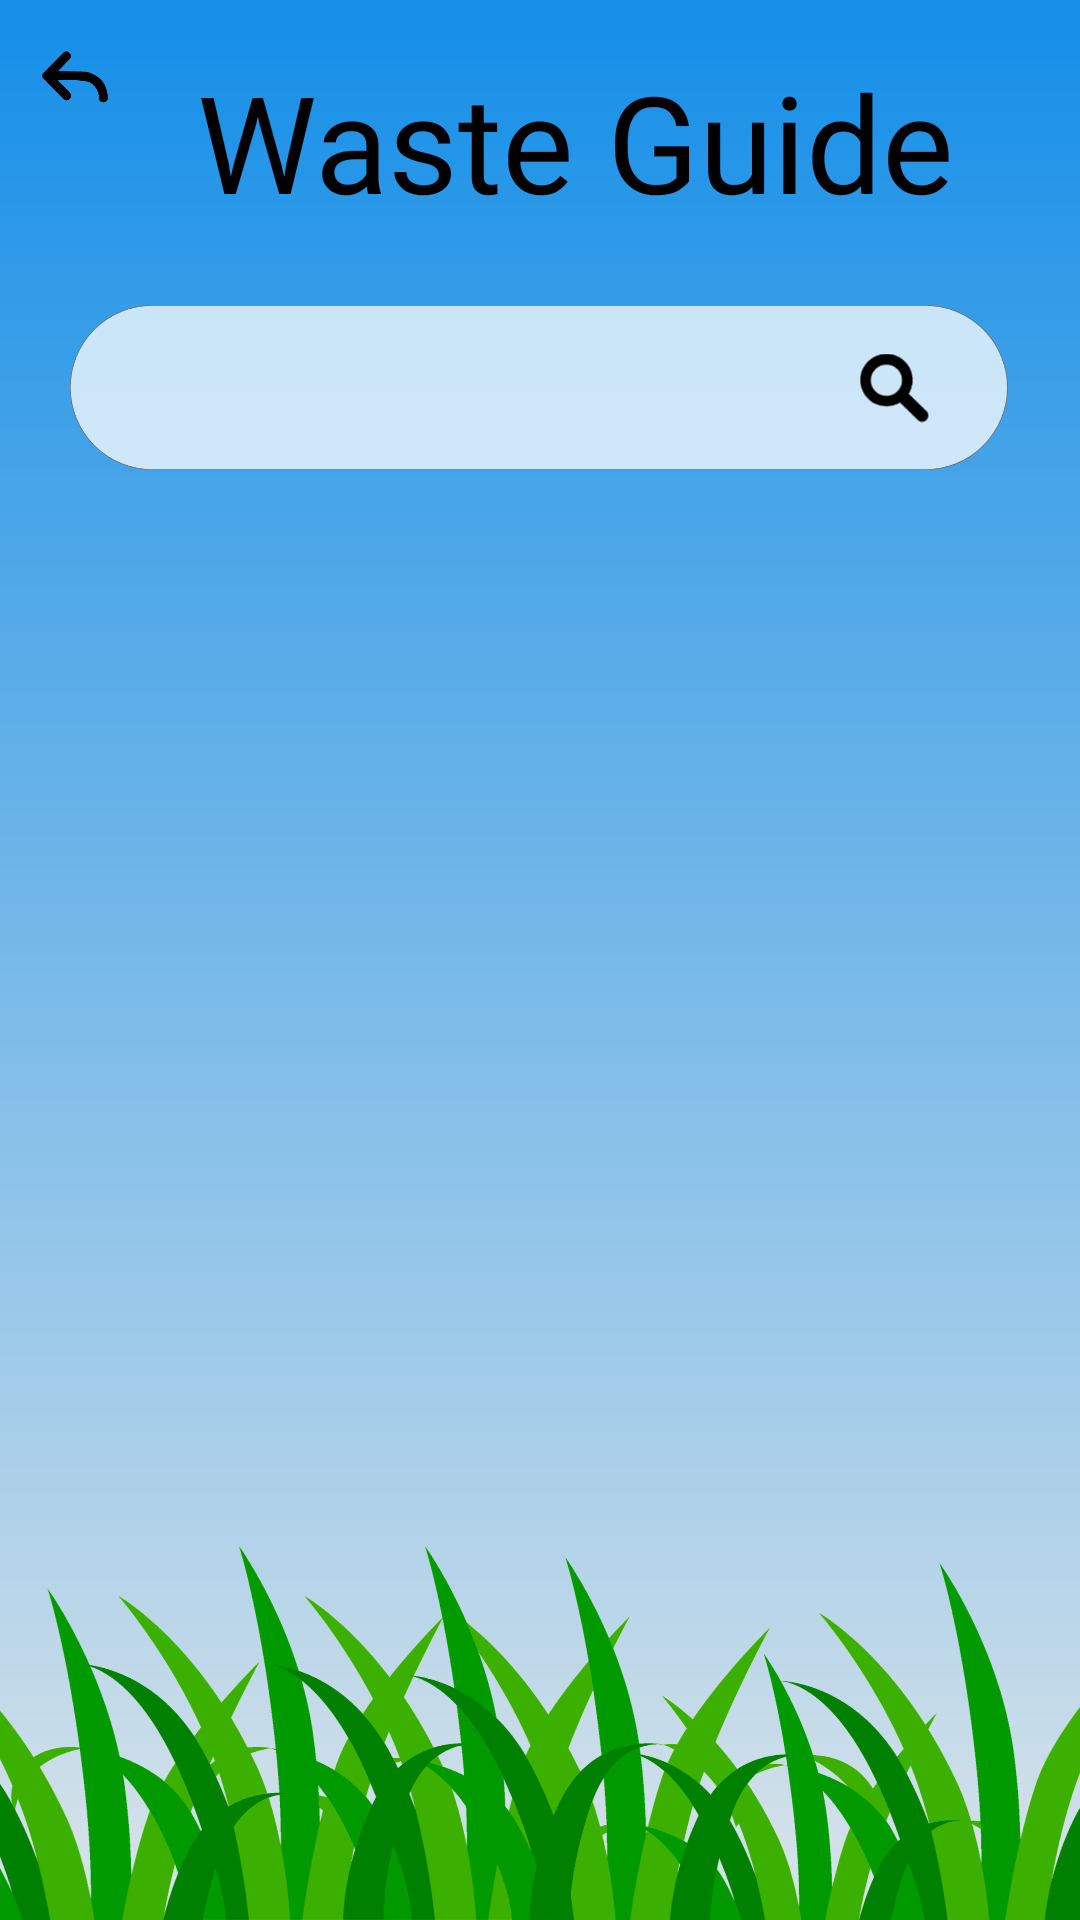

Named icons in this screenshot (1080px×1920px) and their bounding boxes, BBox(x1, y1, x2, y2):
backbtn: BBox(42, 51, 108, 103)
